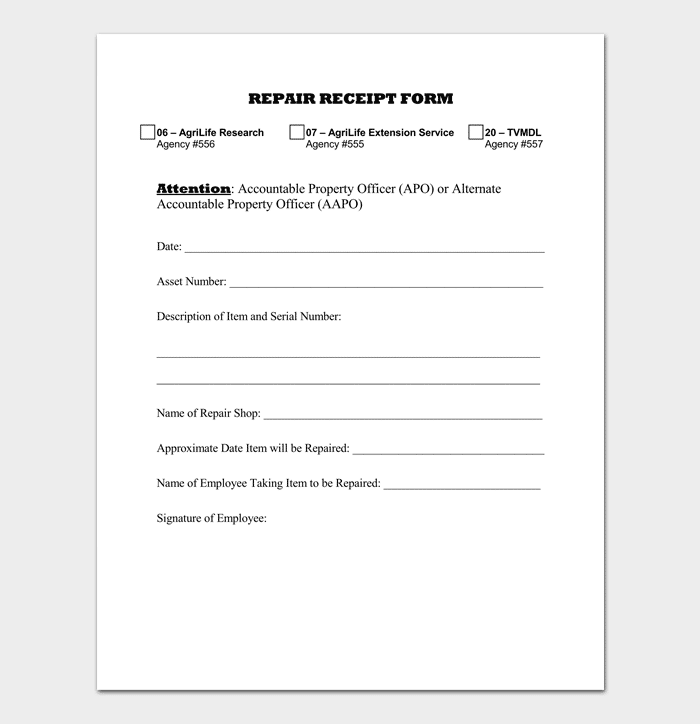checkbox: (288, 123, 306, 142), (467, 122, 485, 141), (139, 124, 156, 140)
textline: (155, 343, 540, 359), (156, 370, 541, 386), (184, 239, 546, 254), (228, 273, 545, 289), (262, 405, 545, 421), (350, 439, 547, 457), (382, 474, 543, 492)
